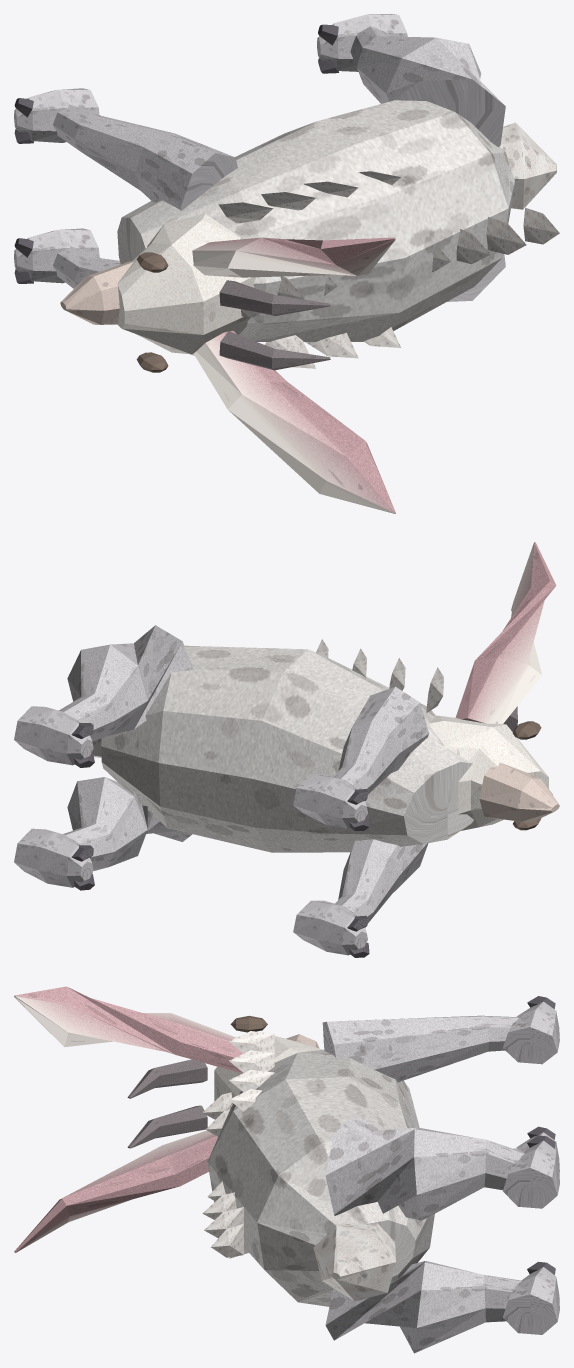
The model's file is nevisco_blockout_v01.glb.
The picture shows the model from 3 angles, top to bottom: view 1: azimuth 30°, elevation 25°; view 2: azimuth 150°, elevation 25°; view 3: azimuth 270°, elevation 25°; orthographic projection. The views are drawn at different scales.
Parts seen in each view (by area): view 1: nevisco; view 2: nevisco; view 3: nevisco.
Boxes of the visible parts, x1,y1,x2,y2 form: nevisco: [14, 14, 559, 513]; nevisco: [14, 542, 559, 957]; nevisco: [14, 986, 559, 1353].
Bounding box in the file's own units: 1.45 × 0.7442 × 1.43.
Materials: 1 (1 with a texture image).
